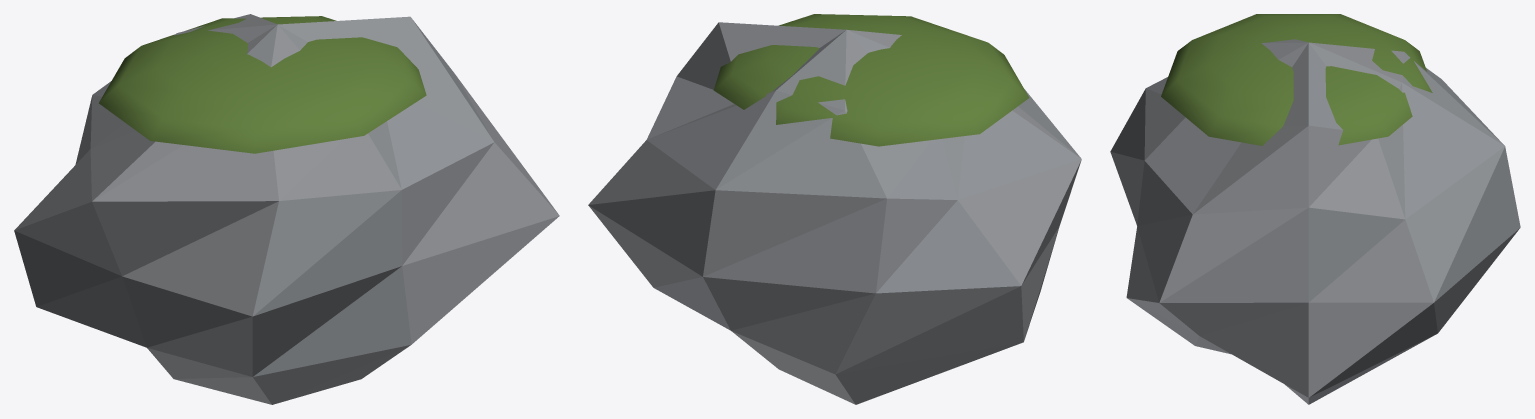
Rendered from Rock.obj.
3 renders of one model, left to right at view 1: azimuth 30°, elevation 25°; view 2: azimuth 150°, elevation 25°; view 3: azimuth 270°, elevation 25°, orthographic. The views are drawn at different scales.
Visible parts, largest first — view 1: Stone, MossCap; view 2: Stone, MossCap; view 3: Stone, MossCap.
Part boxes in pixels (bbox=[...]): Stone: bbox=[14, 14, 559, 404]; MossCap: bbox=[99, 16, 426, 153]; Stone: bbox=[588, 22, 1081, 404]; MossCap: bbox=[713, 14, 1029, 146]; Stone: bbox=[1110, 39, 1520, 404]; MossCap: bbox=[1161, 14, 1432, 145].
Bounding box in the file's own units: 2.39 × 1.79 × 2.02.
